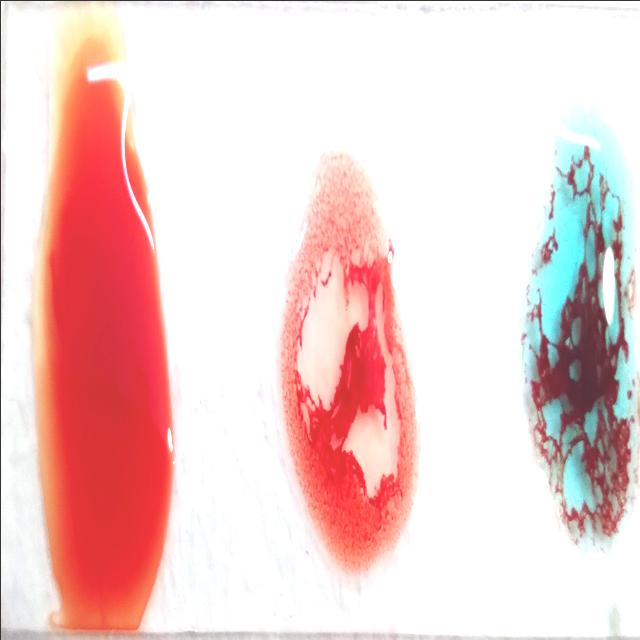A: (518, 127, 636, 545)
D: (282, 135, 412, 564)
